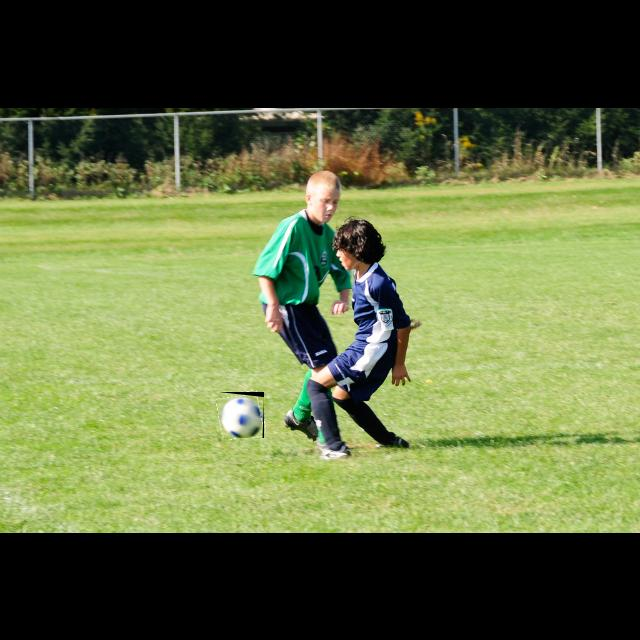Football: (218, 392, 264, 438)
